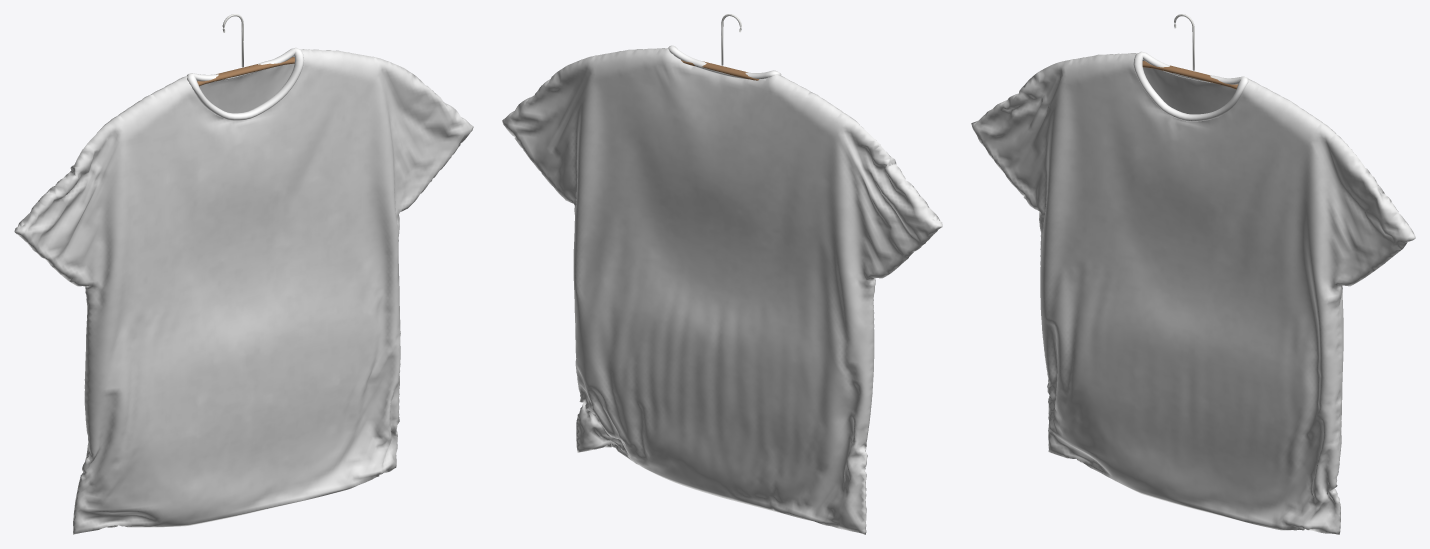
File: oversized-v2.glb
3 views of the same model, side by side, from view 1: azimuth 30°, elevation 25°; view 2: azimuth 150°, elevation 25°; view 3: azimuth 330°, elevation 25° (orthographic). The views are drawn at different scales.
Visible parts, largest first — view 1: Shirt, Collar, HangerWood; view 2: Shirt, Collar; view 3: Shirt, Collar, HangerWood.
Boxes of the visible parts, x1,y1,x2,y2 form: Shirt: [14, 49, 473, 534]; Collar: [187, 47, 303, 120]; HangerWood: [197, 57, 294, 86]; Shirt: [502, 48, 942, 534]; Collar: [668, 45, 781, 79]; Shirt: [971, 53, 1415, 534]; Collar: [1133, 51, 1248, 121]; HangerWood: [1142, 60, 1238, 89].
Bounding box in the file's own units: 0.8492 × 0.8918 × 0.085.
Materials: 4 (1 with a texture image).
